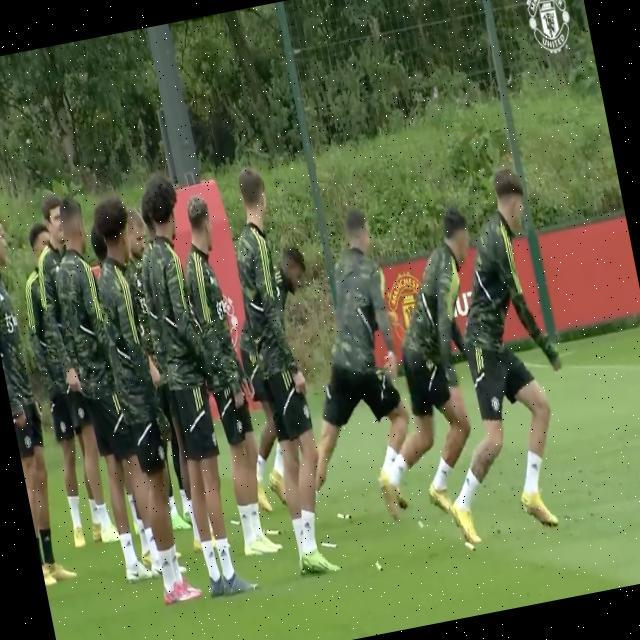Adidas: (160, 555, 172, 570), (219, 545, 229, 560), (304, 518, 313, 532), (530, 459, 539, 471)
